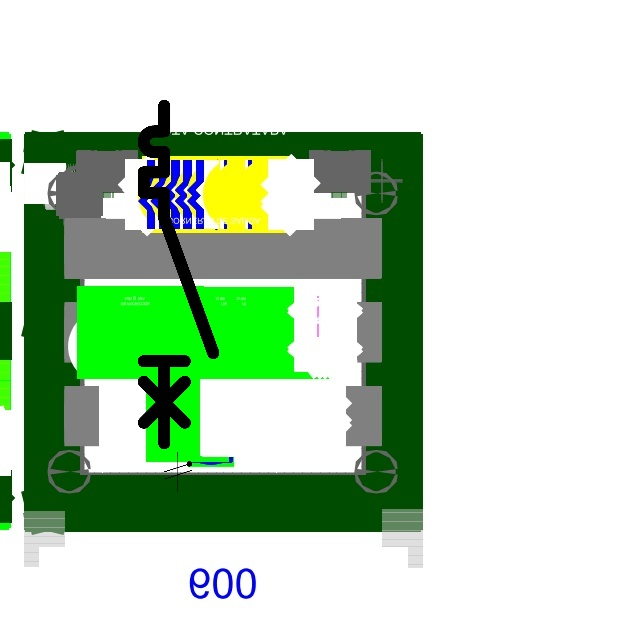interruptor_termomagnetico: (135, 97, 221, 451)
